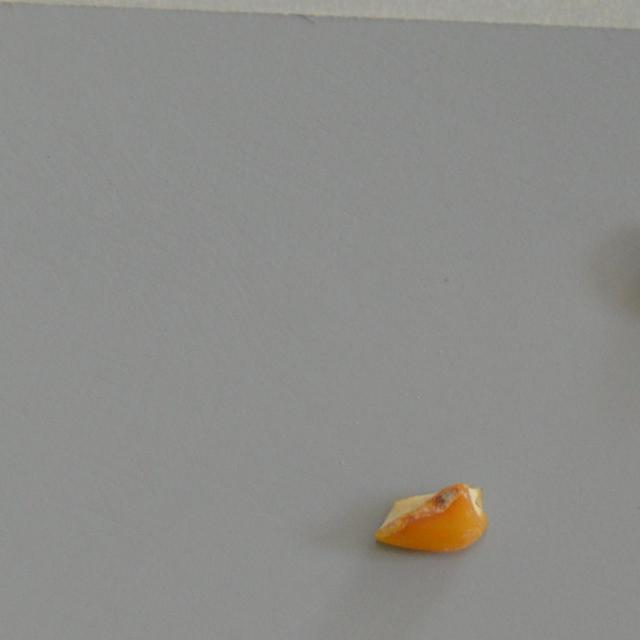dañado: (369, 478, 489, 554)
